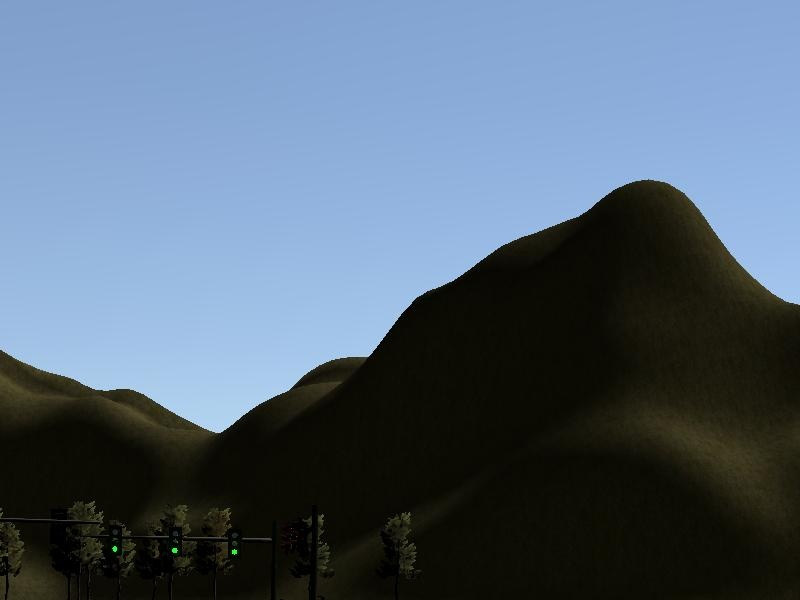GREEN: (166, 524, 184, 560), (224, 526, 243, 559), (106, 522, 123, 558)
